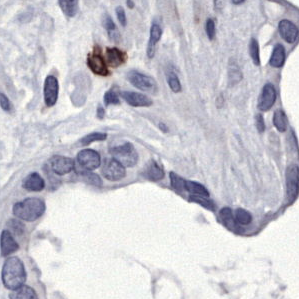Lymphocyte: (84, 49, 112, 80)
